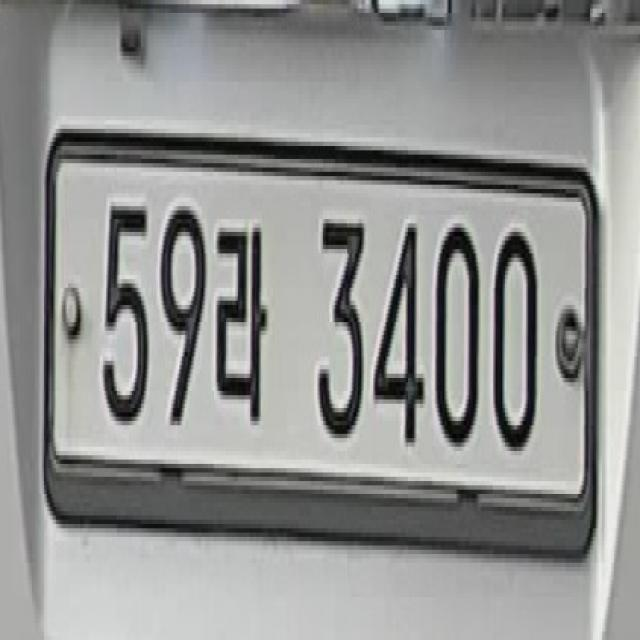0: (429, 198, 486, 448), (491, 207, 544, 454)
3: (311, 195, 367, 453)
4: (370, 198, 428, 456)
5: (95, 185, 152, 433)
9: (155, 185, 209, 447)
la: (211, 194, 270, 436)
license_plate: (36, 98, 608, 591)
